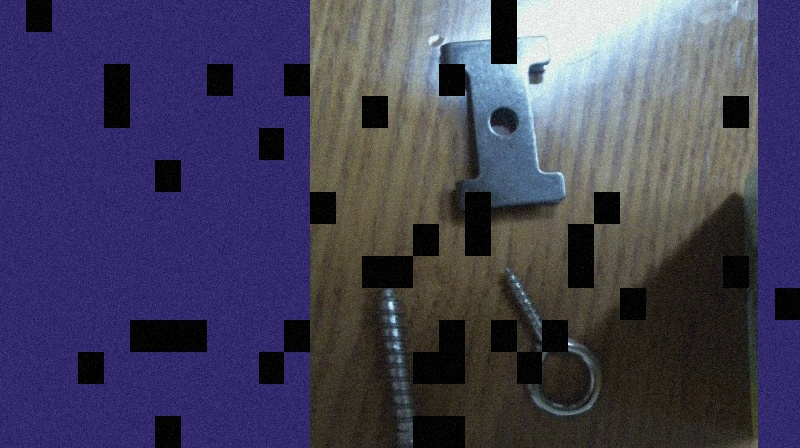O001: (498, 264, 603, 419)
O002: (438, 33, 568, 214)
S001: (373, 274, 444, 447)
